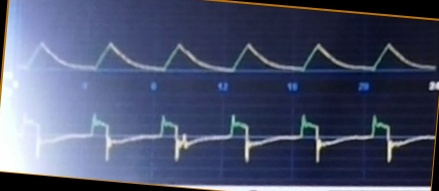Accumulation Flow: (20, 106, 431, 171)
Volume: (20, 26, 435, 80)
